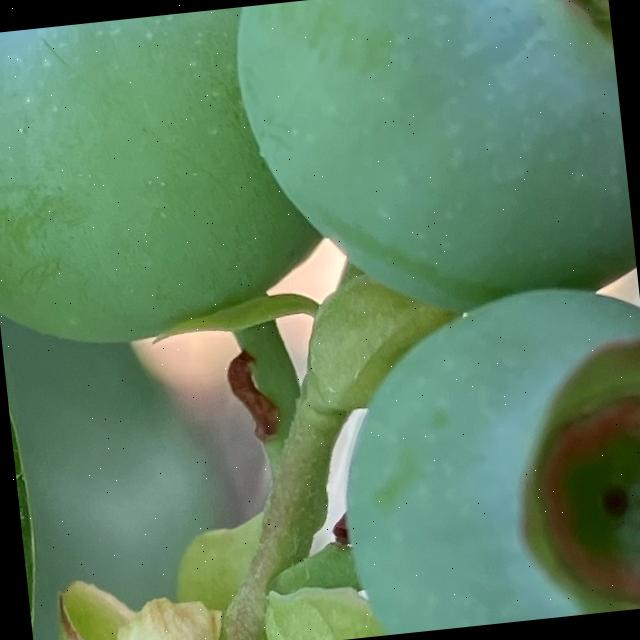Blueberries: (225, 0, 639, 333)
